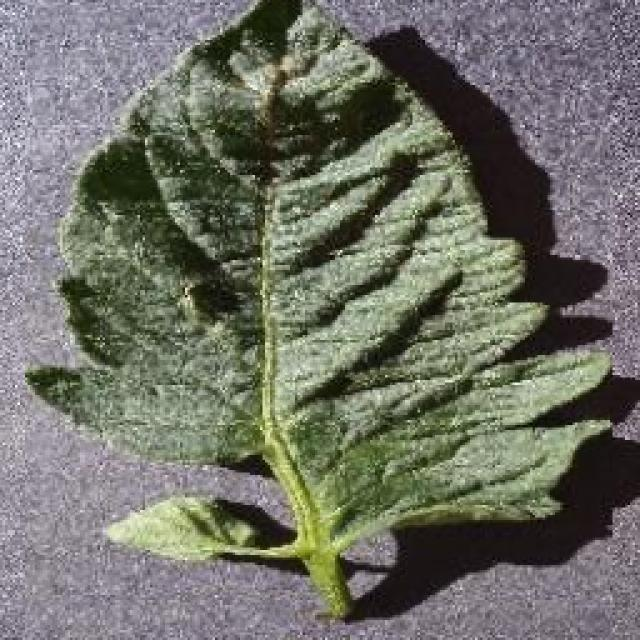Healthy: (25, 0, 613, 638)
